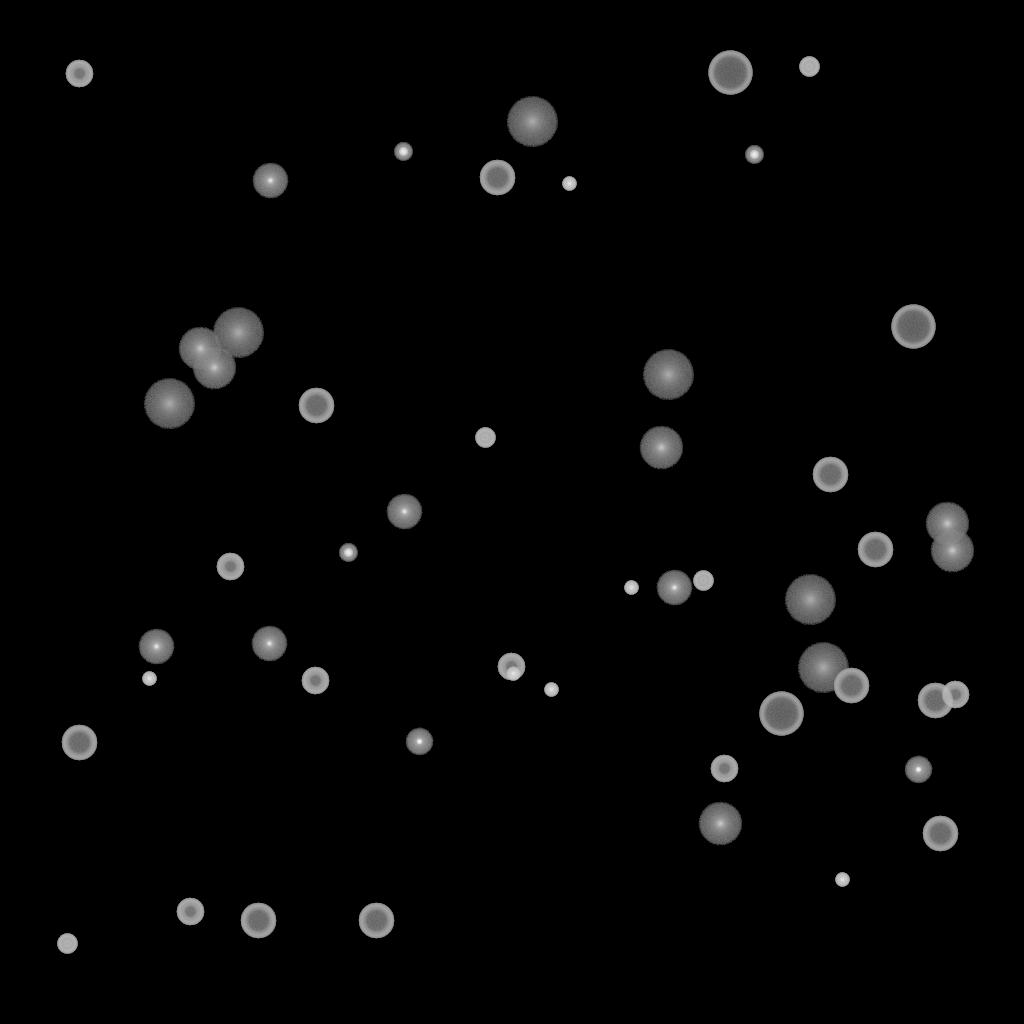depth:-10: (904, 756, 932, 784), (405, 728, 433, 756)
depth:-20: (394, 143, 412, 161), (339, 544, 357, 562), (745, 146, 763, 164)
depth:-30: (506, 667, 520, 681), (835, 873, 849, 887), (562, 177, 576, 191), (624, 581, 638, 595), (544, 683, 558, 697), (142, 672, 156, 686)
depth:-40: (693, 571, 713, 591), (799, 57, 819, 77), (57, 934, 77, 954), (475, 428, 495, 448)
depth:-50: (941, 681, 969, 709), (65, 60, 93, 88), (710, 755, 738, 783), (216, 553, 244, 581), (301, 667, 329, 695), (497, 653, 525, 681), (176, 898, 204, 926)
depth:-60: (240, 903, 276, 939), (479, 160, 515, 196), (922, 816, 958, 852), (857, 532, 893, 568), (358, 903, 394, 939), (298, 388, 334, 424), (833, 668, 869, 704), (812, 457, 848, 493), (917, 683, 953, 719), (61, 725, 97, 761)
depth:-70: (891, 305, 935, 349), (708, 51, 752, 95), (759, 692, 803, 736)
depth:0: (656, 570, 692, 606), (251, 626, 287, 662), (138, 629, 174, 665), (252, 163, 288, 199), (386, 494, 422, 530)
depth:10: (178, 327, 222, 371), (192, 346, 236, 390), (698, 802, 742, 846), (930, 529, 974, 573), (639, 426, 683, 470), (925, 502, 969, 546)
depth:20: (506, 97, 558, 147), (143, 379, 195, 429), (784, 575, 836, 625), (797, 643, 849, 693), (212, 308, 264, 358), (642, 350, 694, 400)
